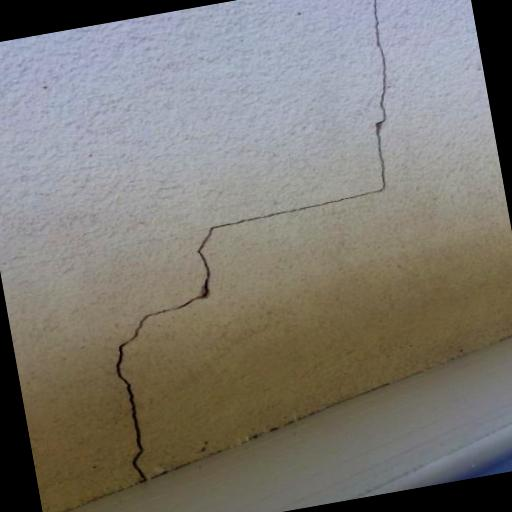spalling: (103, 0, 404, 471)
